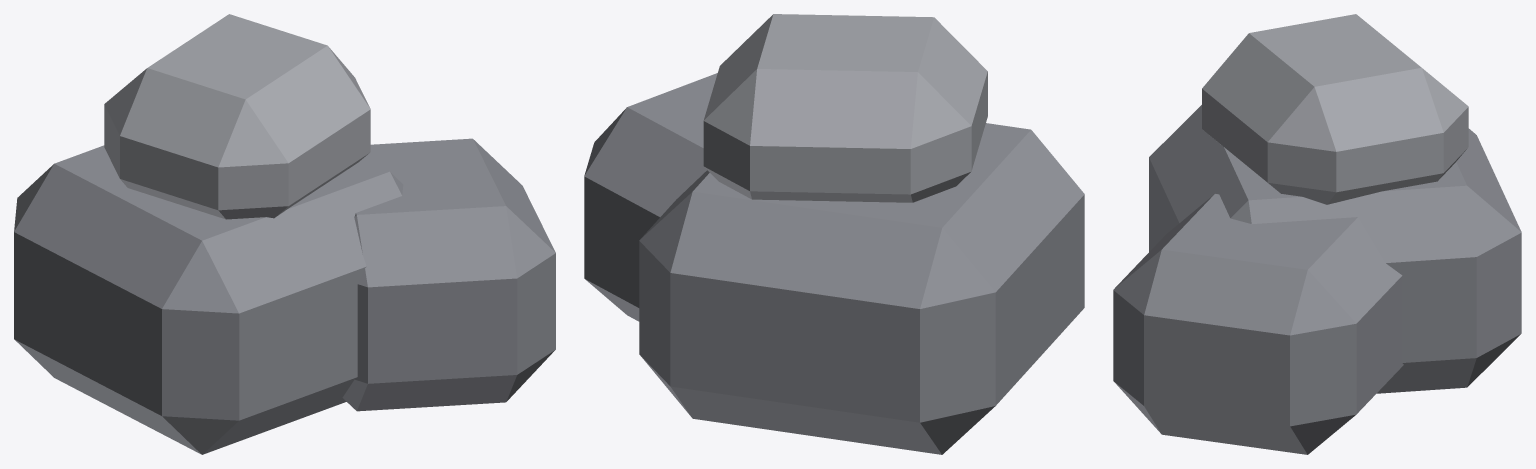
Rendered from env_r1_rock_small.glb.
3 views of the same model, side by side, from view 1: azimuth 30°, elevation 25°; view 2: azimuth 150°, elevation 25°; view 3: azimuth 270°, elevation 25° (orthographic). The views are drawn at different scales.
Visible parts, largest first — view 1: env_r1_rock_small; view 2: env_r1_rock_small; view 3: env_r1_rock_small.
Part boxes in pixels (x1,y1,x2,y2): env_r1_rock_small: (14, 14, 555, 454); env_r1_rock_small: (584, 14, 1084, 454); env_r1_rock_small: (1113, 14, 1521, 454).
Size of the model in its own units: 1.3 by 0.9 by 1.1.
1 material, 1 textured.
